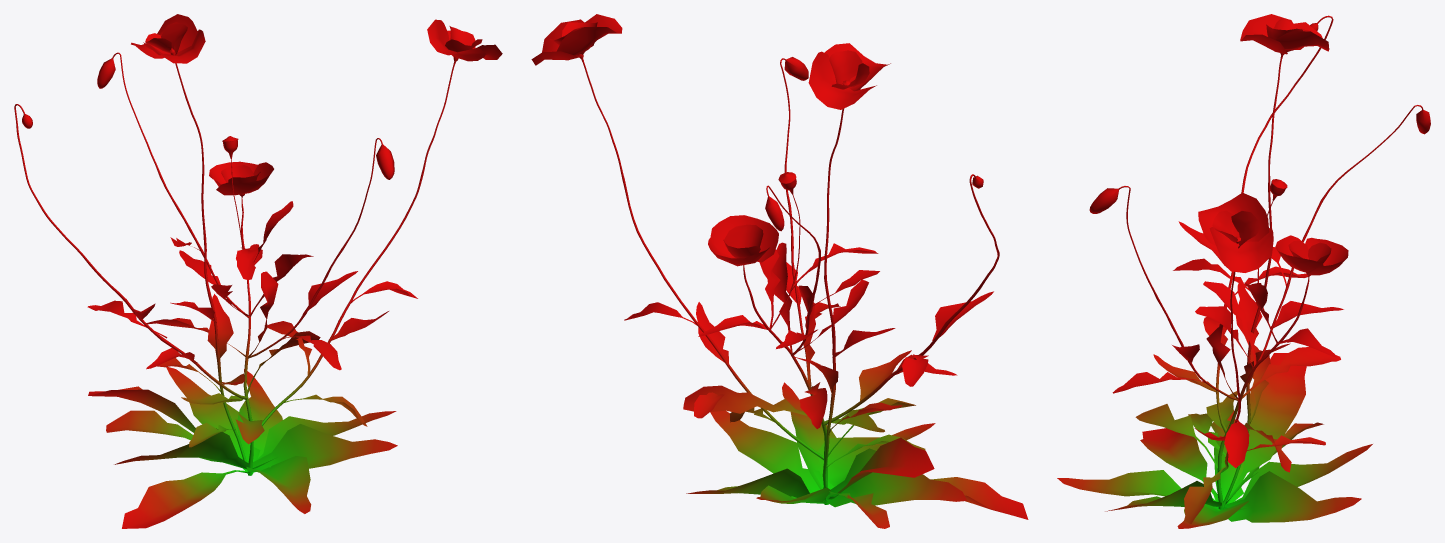
Rendered from Field Poppy_LOD0_Var1_vmcobd0ja.fbx.
3 renders of one model, left to right at view 1: azimuth 30°, elevation 25°; view 2: azimuth 150°, elevation 25°; view 3: azimuth 270°, elevation 25°, orthographic. The views are drawn at different scales.
Visible parts, largest first — view 1: _prpj_Var1_LOD0; view 2: _prpj_Var1_LOD0; view 3: _prpj_Var1_LOD0.
Boxes of the visible parts, x1,y1,x2,y2 form: _prpj_Var1_LOD0: (14,14,502,528); _prpj_Var1_LOD0: (531,14,1028,528); _prpj_Var1_LOD0: (1057,14,1430,528).
Bounding box in the file's own units: 71.48 × 68.1 × 49.26.
